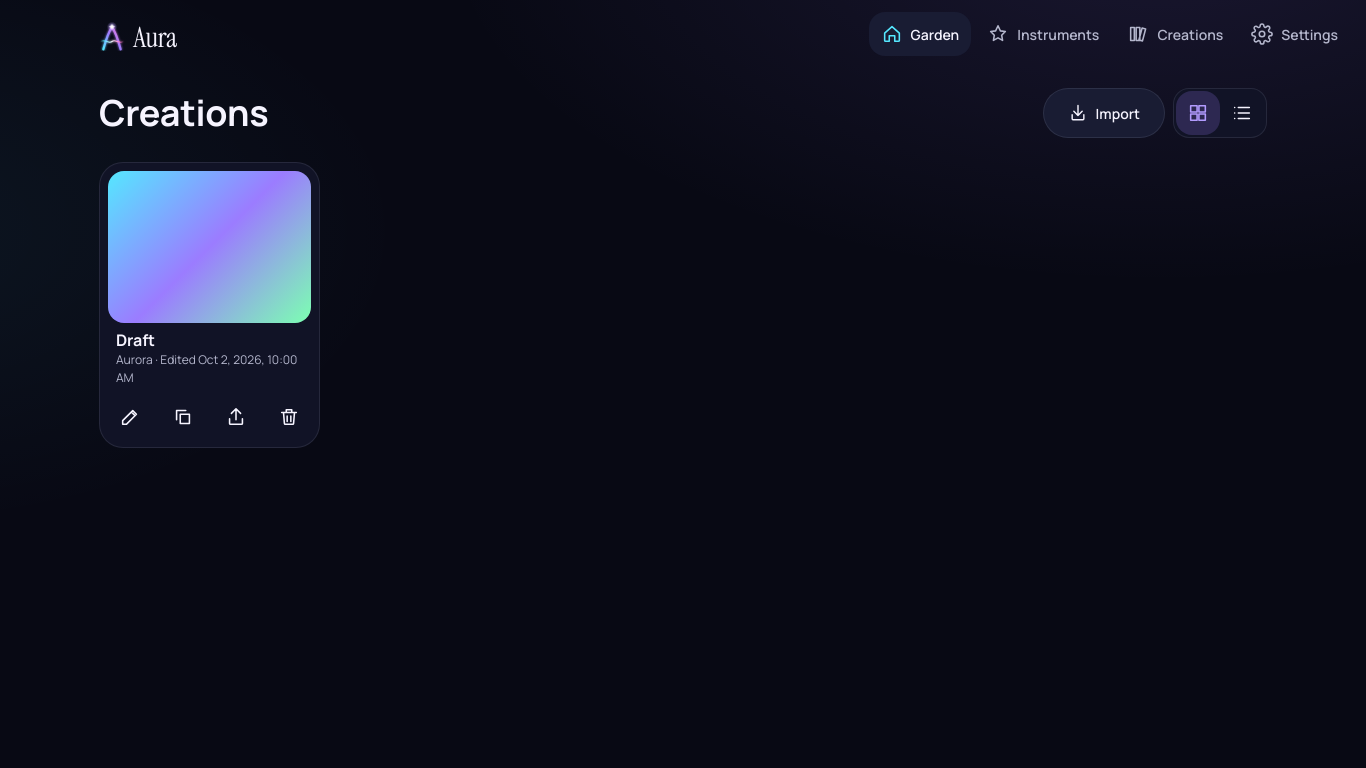
Test: Creations library › renames and duplicates
Click the button named "Rename Draft" at (130, 418), box [108,396,152,440]
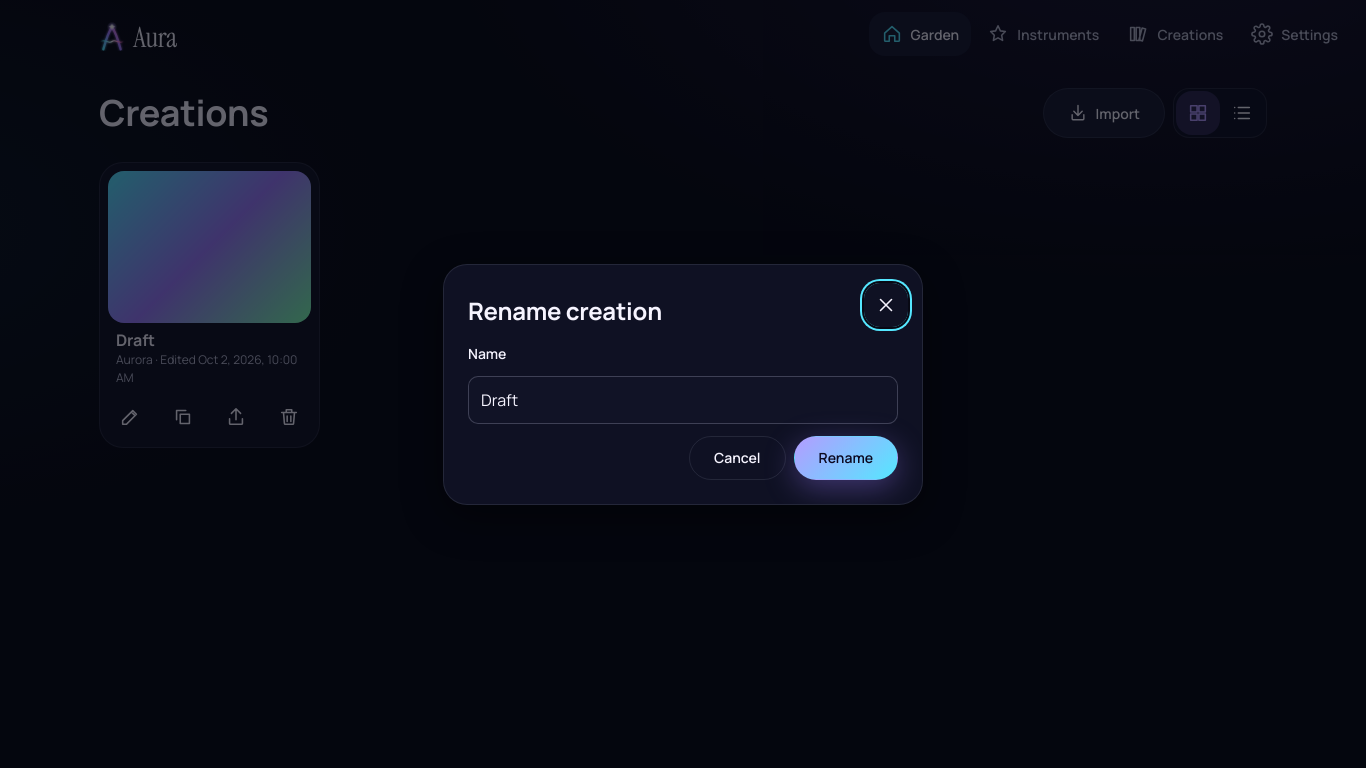
Replace the text in the field labelled "Name" with "Final" at (683, 400), box [468,376,898,424]
Then press Enter
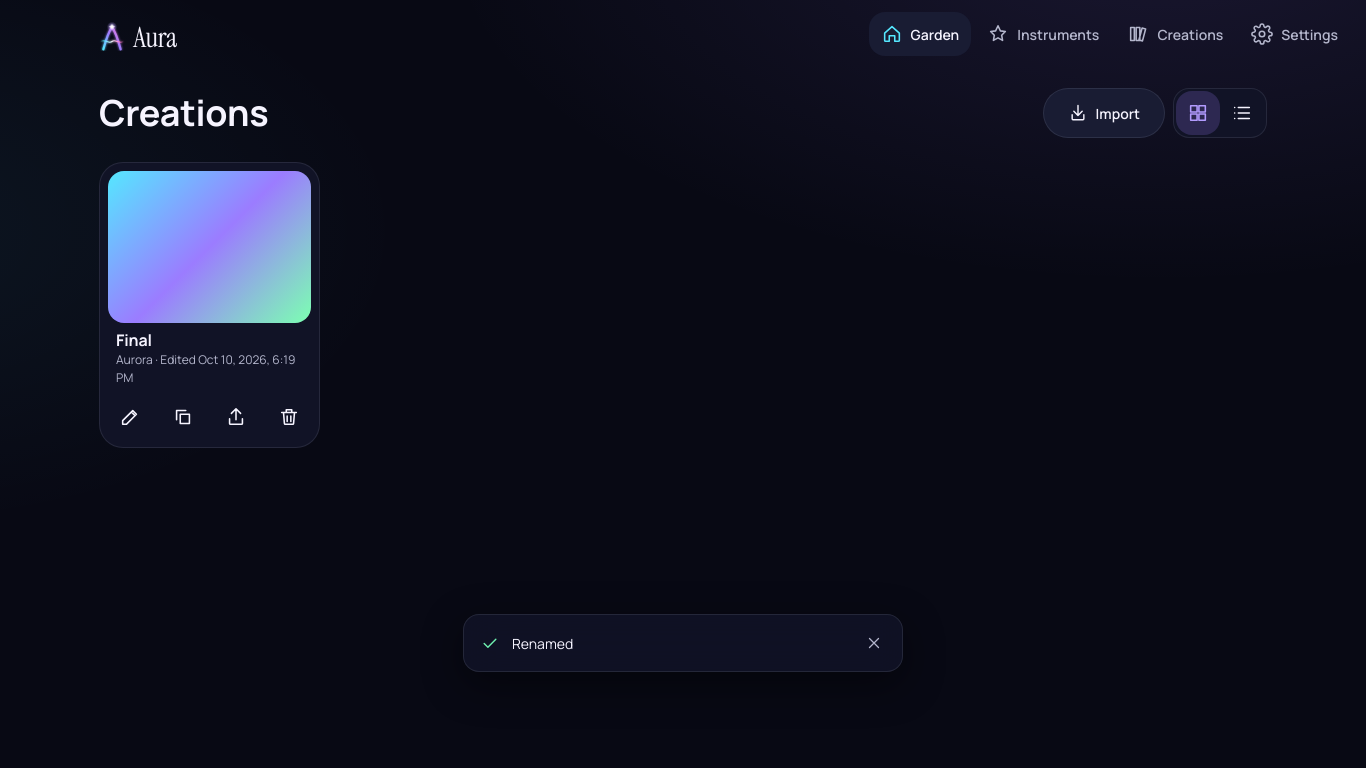
Now the heading "Final" is shown, box [116,329,152,351]
Click the button named "Duplicate Final" at (183, 418), box [161,396,205,440]
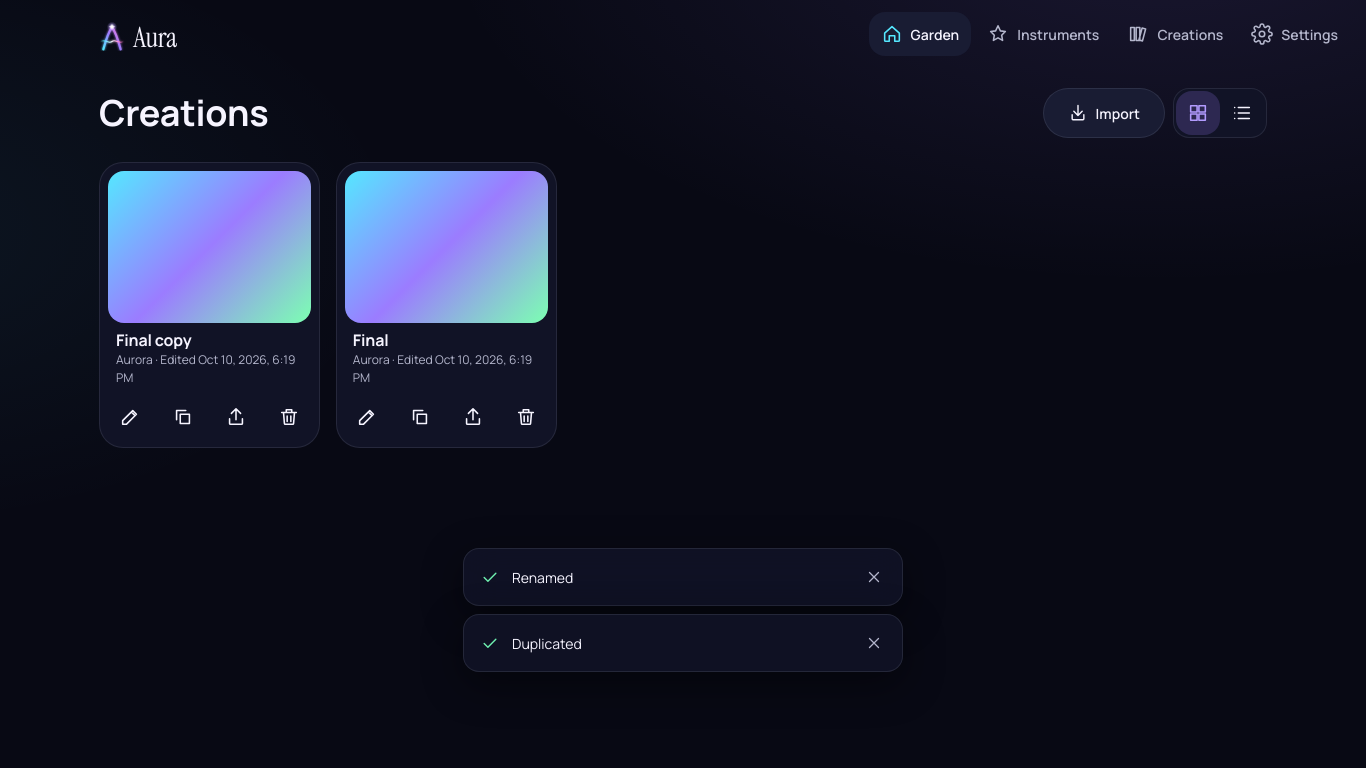
Now the heading "Final copy" is shown, box [116,329,192,351]
